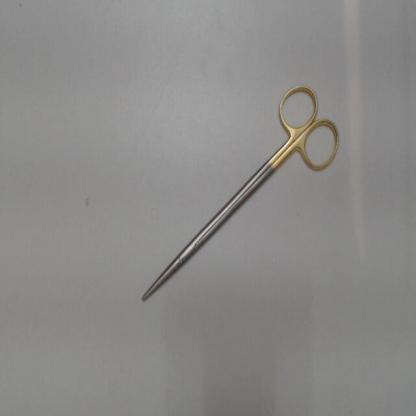7 Metzenbaum Scissors: (136, 76, 344, 310)
